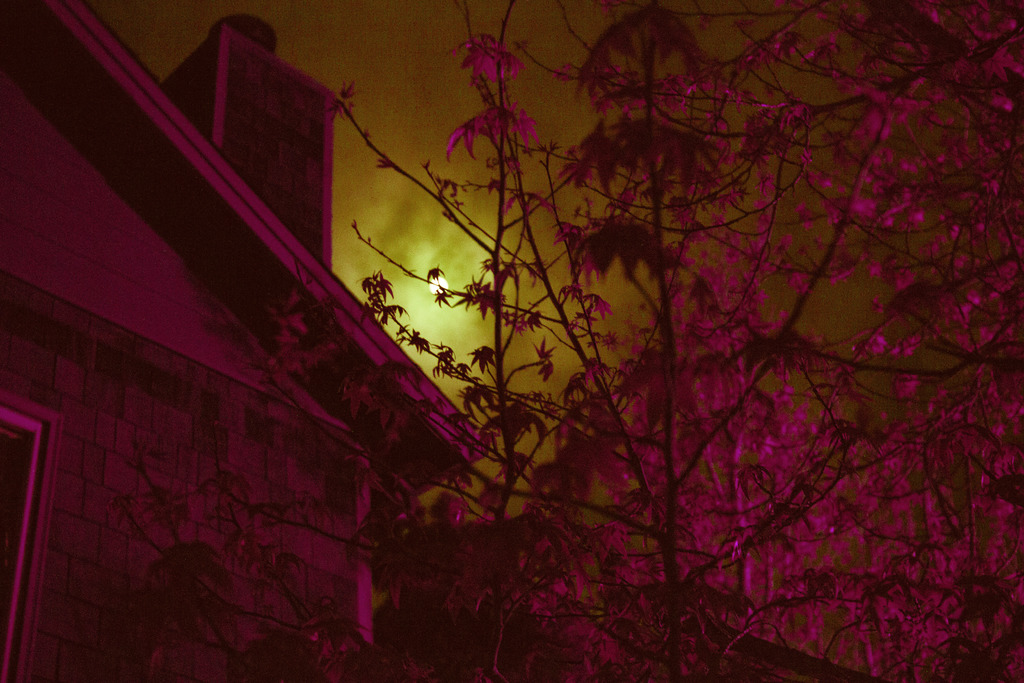Tree: (161, 0, 985, 659)
